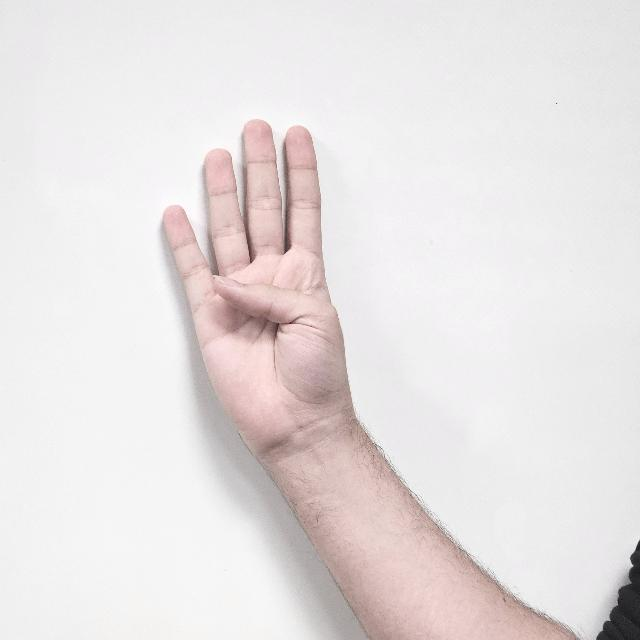Baixo: (149, 110, 373, 452)
